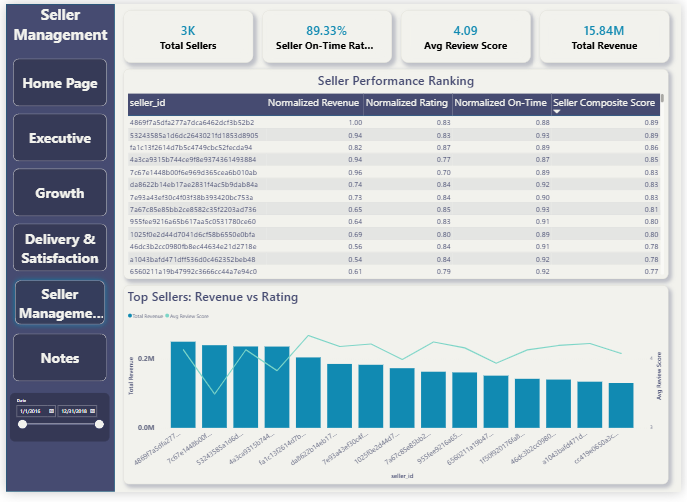

What the dashboard file says about the page in this screenshot:
{"tool":"powerbi","page":{"name":"Seller Management","canvas":[1800,1300],"ordinal":4},"visuals":[{"type":"shape","box":[0,0,290,1300],"z":0},{"type":"cardVisual","fields":{"Data":["Measure Table.Total Sellers"]},"box":[312.5,15,345.6,140],"z":0,"group":"g1"},{"type":"group","id":"g1","title":"Group 1","box":[312.5,15,1452.5,140],"z":1000},{"type":"cardVisual","fields":{"Data":["Measure Table.Seller On-Time Rate %"]},"box":[682,15,345.6,140],"z":1000,"group":"g1"},{"type":"actionButton","title":"Home Page","box":[10.5,870,267,145],"z":1000,"group":"g2"},{"type":"cardVisual","fields":{"Data":["Measure Table.Avg Review Score"]},"box":[1051.4,15,345.6,140],"z":2000,"group":"g1"},{"type":"tableEx","title":"Seller Performance Ranking","fields":{"Values":["sellers.seller_id","Measure Table.Normalized Revenue","Measure Table.Normalized Rating","Measure Table.Normalized On-Time","Measure Table.Seller Composite Score"]},"box":[312.5,172.5,1452.5,560],"z":2000},{"type":"cardVisual","fields":{"Data":["Measure Table.Total Revenue"]},"box":[1420.9,15,345.6,140],"z":3000,"group":"g1"},{"type":"lineClusteredColumnComboChart","title":"Top Sellers: Revenue vs Rating","fields":{"Category":["sellers.seller_id"],"Y":["Measure Table.Total Revenue"],"Y2":["Measure Table.Avg Review Score"]},"box":[312.5,750,1452.5,530],"z":3000},{"type":"actionButton","title":"Home Page","box":[10,136,267.5,145],"z":4000,"group":"g2"},{"type":"actionButton","title":"Home Page","box":[10,282.8,267.5,145],"z":5000,"group":"g2"},{"type":"slicer","fields":{"Values":["Date.Date"]},"box":[10,1036,266,130],"z":5000},{"type":"actionButton","title":"Home Page","box":[10,429.6,267.5,145],"z":6000,"group":"g2"},{"type":"actionButton","title":"Home Page","box":[10,576.4,267.5,145],"z":7000,"group":"g2"},{"type":"actionButton","title":"Home Page","box":[10.5,723.2,267,145],"z":8000,"group":"g2"},{"type":"group","id":"g2","title":"Group 2","box":[10,136,268,880],"z":8001}]}

Visuals, with their boxes on the page's 1800x1300 design canvas (x1, y1, x2, y2). These are canvas units, not pixel positions in the 687x502 screenshot, which may show the page scaled, cropped or inside an application window:
shape: bbox=(0, 0, 290, 1300)
cardVisual - Measure Table.Total Sellers: bbox=(312, 15, 658, 155)
"Group 1" group: bbox=(312, 15, 1765, 155)
cardVisual - Measure Table.Seller On-Time Rate %: bbox=(682, 15, 1028, 155)
"Home Page" actionButton: bbox=(10, 870, 278, 1015)
cardVisual - Measure Table.Avg Review Score: bbox=(1051, 15, 1397, 155)
"Seller Performance Ranking" tableEx: bbox=(312, 172, 1765, 732)
cardVisual - Measure Table.Total Revenue: bbox=(1421, 15, 1766, 155)
"Top Sellers: Revenue vs Rating" lineClusteredColumnComboChart: bbox=(312, 750, 1765, 1280)
"Home Page" actionButton: bbox=(10, 136, 278, 281)
"Home Page" actionButton: bbox=(10, 283, 278, 428)
slicer - Date.Date: bbox=(10, 1036, 276, 1166)
"Home Page" actionButton: bbox=(10, 430, 278, 575)
"Home Page" actionButton: bbox=(10, 576, 278, 721)
"Home Page" actionButton: bbox=(10, 723, 278, 868)
"Group 2" group: bbox=(10, 136, 278, 1016)
